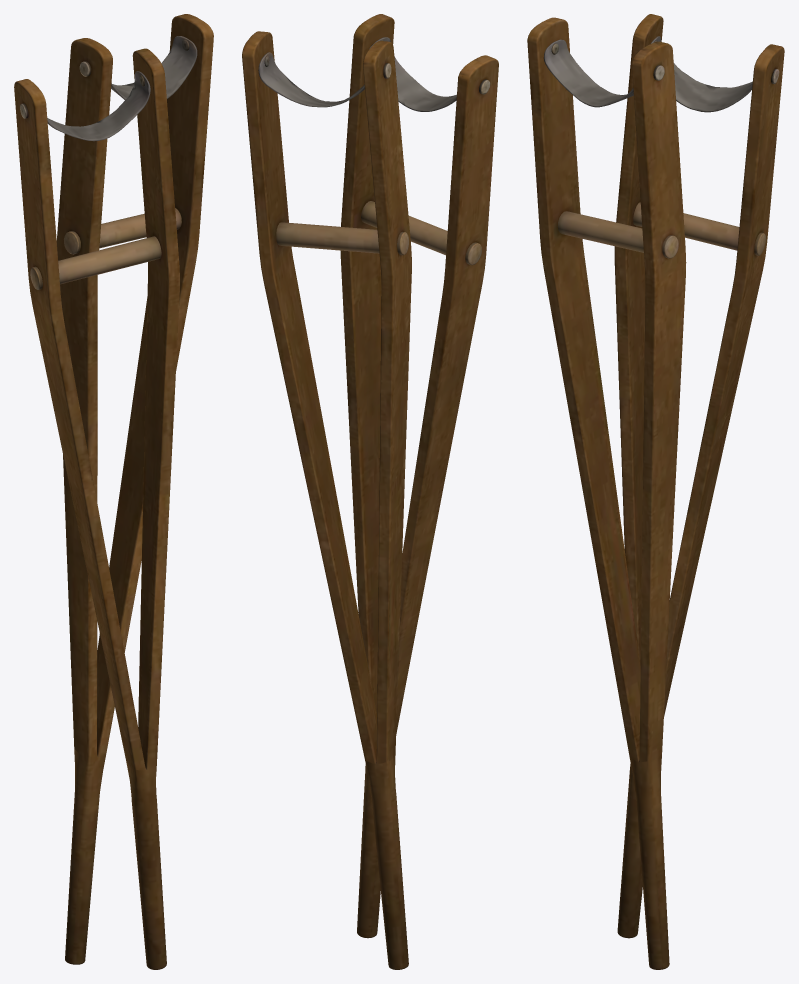
The model's file is vintage_crutches_01.glb.
The picture shows the model from 3 angles, left to right: view 1: azimuth 30°, elevation 25°; view 2: azimuth 150°, elevation 25°; view 3: azimuth 330°, elevation 25°; orthographic projection.
Parts seen in each view (by area): view 1: vintage_crutches_01_crutch01, vintage_crutches_01_crutch02; view 2: vintage_crutches_01_crutch02, vintage_crutches_01_crutch01; view 3: vintage_crutches_01_crutch01, vintage_crutches_01_crutch02.
Boxes of the visible parts, box(x1,y1,x2,y2) form: vintage_crutches_01_crutch01: box(14, 48, 179, 969); vintage_crutches_01_crutch02: box(56, 14, 213, 964); vintage_crutches_01_crutch02: box(242, 31, 411, 969); vintage_crutches_01_crutch01: box(340, 14, 498, 938); vintage_crutches_01_crutch01: box(527, 17, 686, 969); vintage_crutches_01_crutch02: box(614, 14, 784, 938).
Size of the model in its own units: 0.3837 by 1.6 by 0.2036.
Materials: 1 (1 with a texture image).
